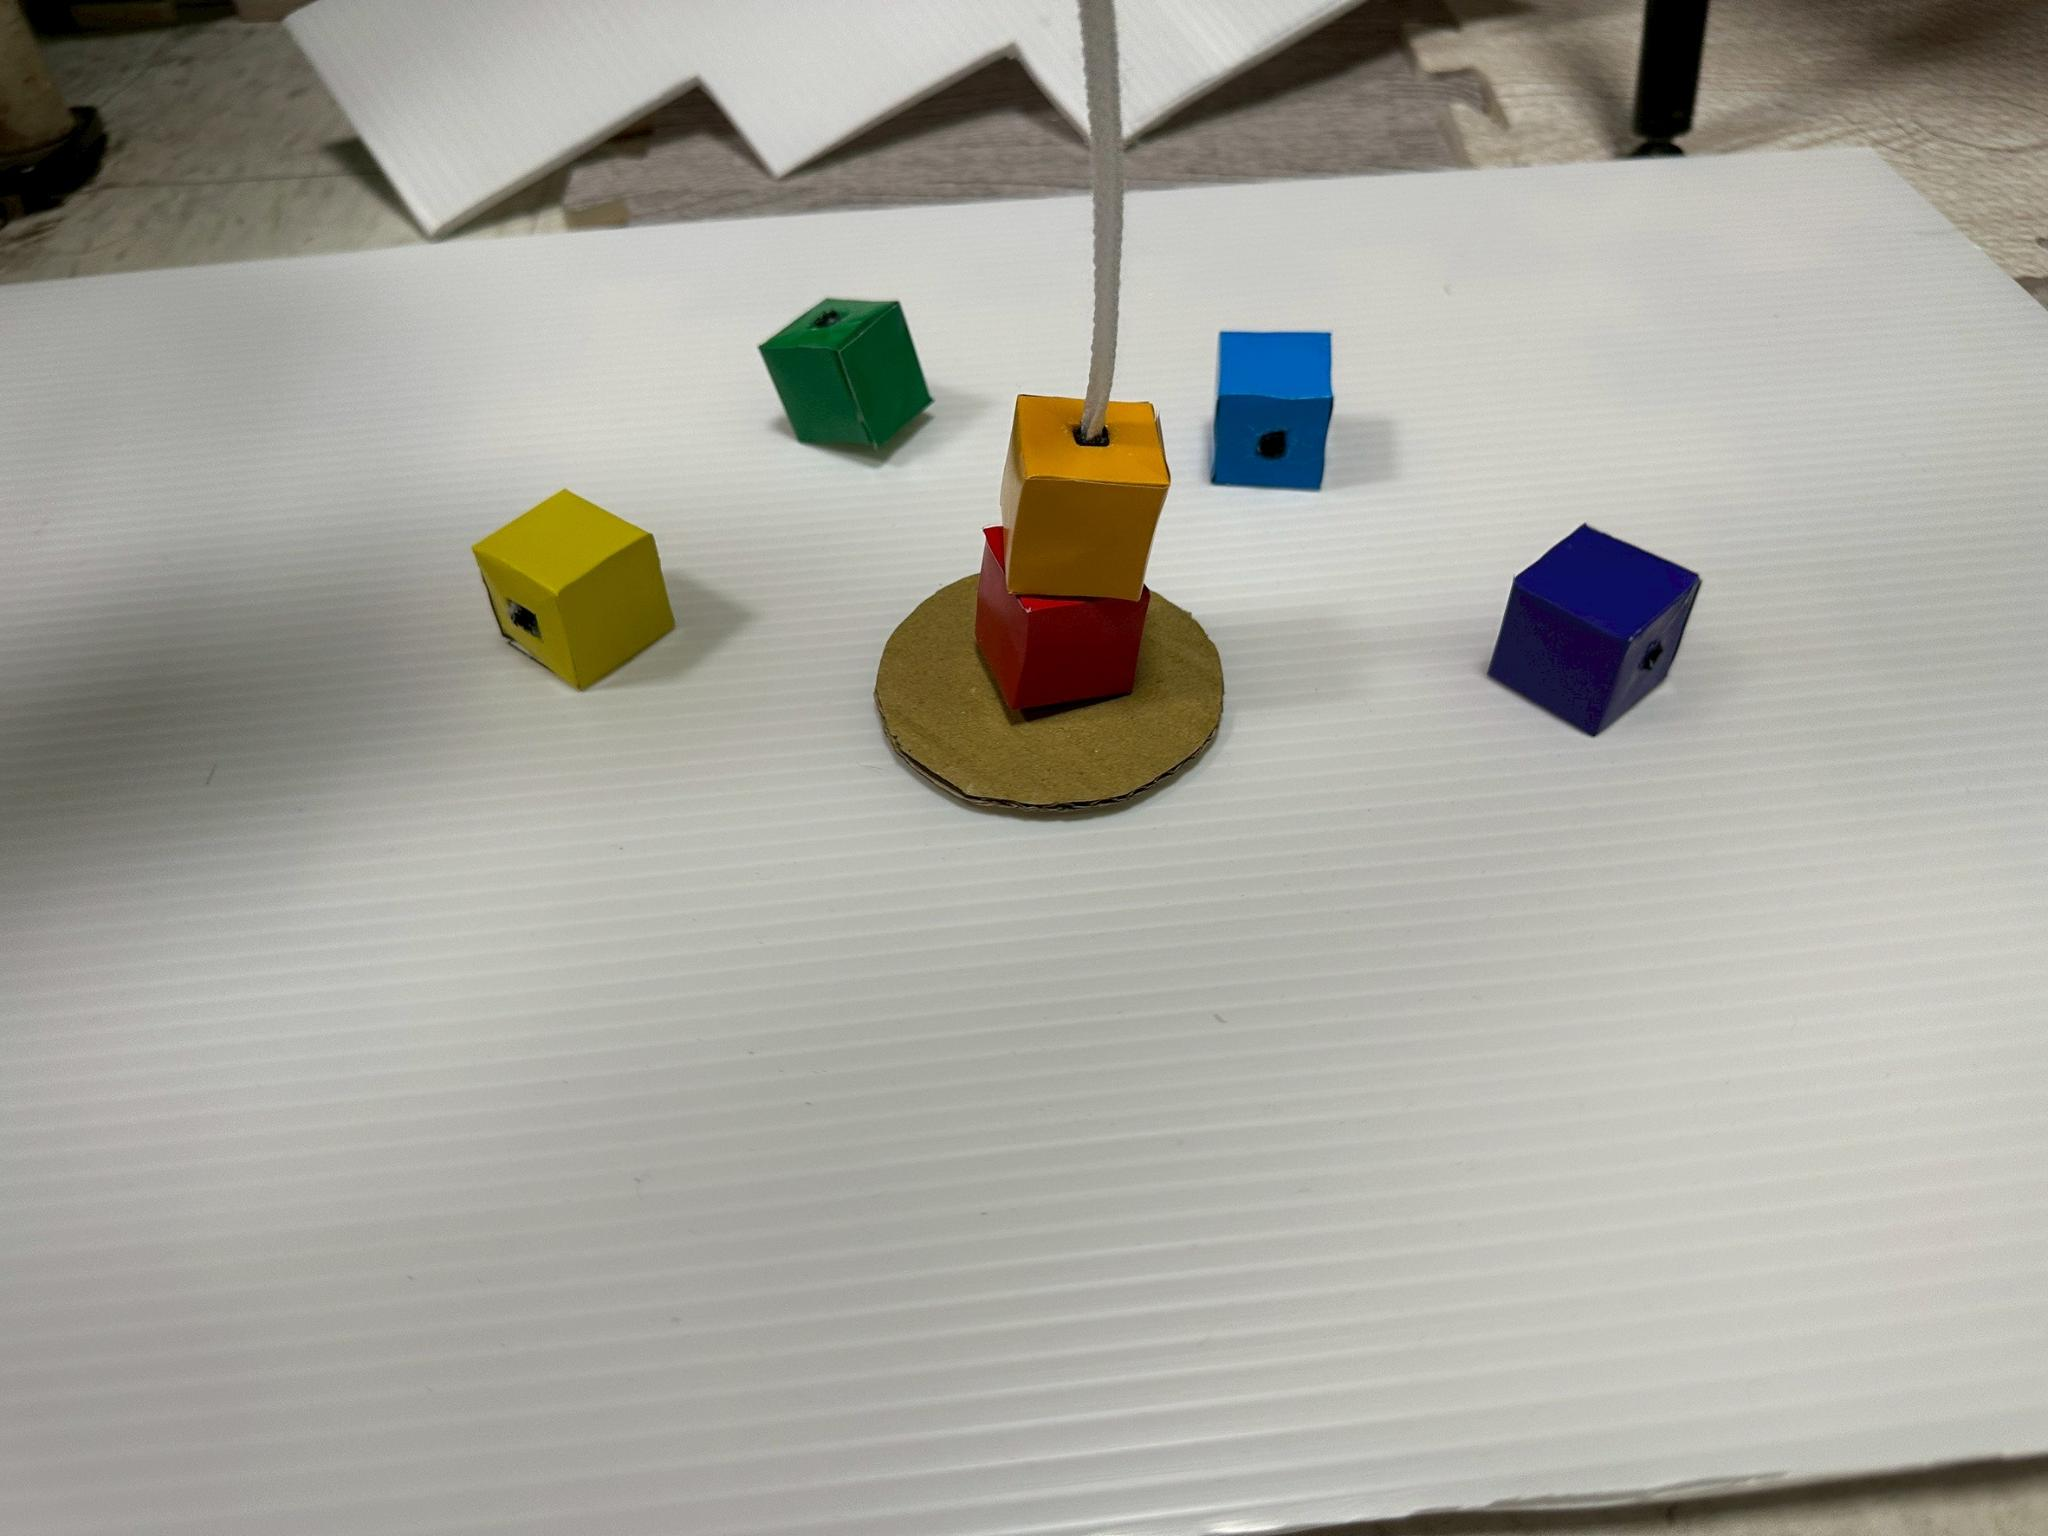base: (876, 579, 1224, 807)
cube: (1488, 526, 1700, 736), (474, 490, 672, 689), (1000, 395, 1169, 600), (976, 526, 1151, 712), (761, 302, 932, 447), (1213, 331, 1332, 489)
